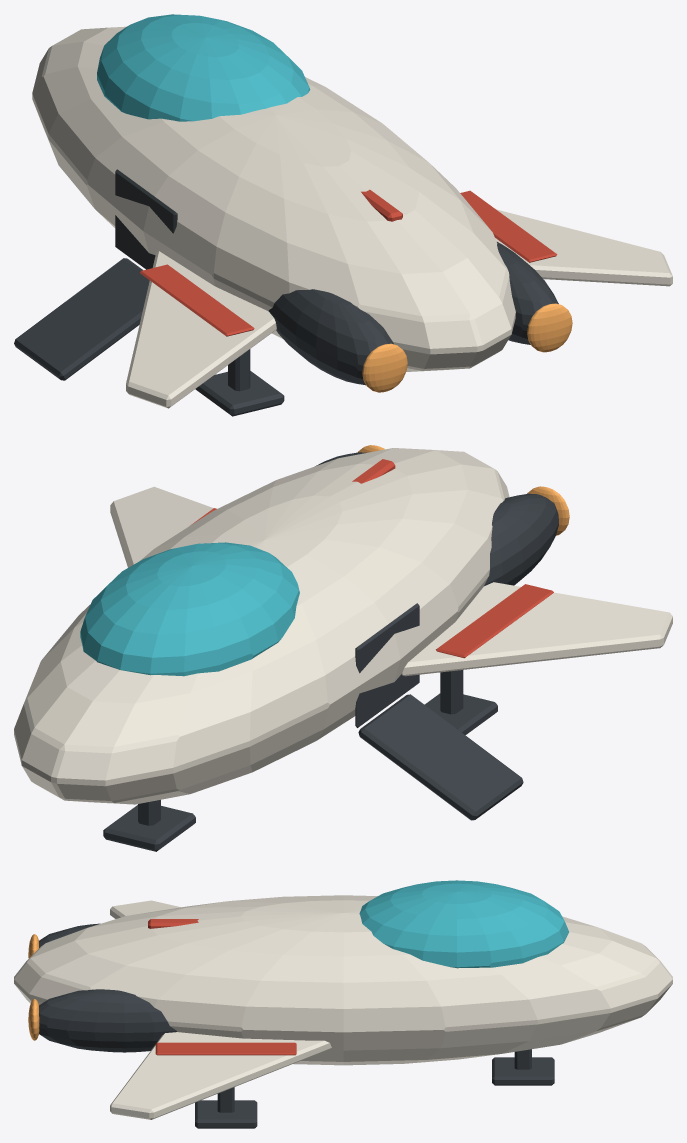
Rendered from ship.glb.
3 renders of one model, top to bottom at view 1: azimuth 30°, elevation 25°; view 2: azimuth 150°, elevation 25°; view 3: azimuth 270°, elevation 25°, orthographic. The views are drawn at different scales.
Parts seen in each view (by area): view 1: Hull, Cockpit, Wing-1, Ramp, Nacelle-1, Wing1, WingStripe-1, Nacelle1, Hatch, Foot0, WingStripe1, Exhaust-1 (+2 smaller); view 2: Hull, Cockpit, Wing-1, Ramp, Nacelle-1, Wing1, Hatch, WingStripe-1, Foot2, Foot0, Strut0, Exhaust-1; view 3: Hull, Cockpit, Wing1, Nacelle1, WingStripe1, Foot1, Foot2, Wing-1, Exhaust1, Strut1, Spine.
Boxes of the visible parts, left/top/right/bottom form: Hull: left=32, top=26, right=515, bottom=371; Cockpit: left=97, top=14, right=310, bottom=121; Wing-1: left=126, top=251, right=276, bottom=408; Ramp: left=14, top=258, right=149, bottom=380; Nacelle-1: left=268, top=289, right=393, bottom=385; Wing1: left=495, top=209, right=672, bottom=286; WingStripe-1: left=139, top=264, right=254, bottom=336; Nacelle1: left=497, top=242, right=558, bottom=344; Hatch: left=115, top=169, right=177, bottom=269; Foot0: left=195, top=371, right=284, bottom=416; WingStripe1: left=460, top=190, right=557, bottom=262; Exhaust-1: left=362, top=343, right=407, bottom=392; Hull: left=14, top=448, right=509, bottom=804; Cockpit: left=80, top=542, right=299, bottom=676; Wing-1: left=402, top=582, right=672, bottom=676; Ramp: left=358, top=694, right=523, bottom=820; Nacelle-1: left=484, top=493, right=558, bottom=586; Wing1: left=110, top=486, right=213, bottom=567; Hatch: left=355, top=603, right=419, bottom=727; WingStripe-1: left=436, top=584, right=553, bottom=658; Foot2: left=103, top=805, right=195, bottom=851; Foot0: left=424, top=693, right=497, bottom=734; Strut0: left=440, top=670, right=463, bottom=714; Exhaust-1: left=527, top=486, right=569, bottom=535; Hull: left=14, top=895, right=672, bottom=1065; Cockpit: left=359, top=880, right=568, bottom=968; Wing1: left=110, top=1032, right=331, bottom=1119; Nacelle1: left=39, top=989, right=176, bottom=1052; WingStripe1: left=155, top=1042, right=296, bottom=1055; Foot1: left=195, top=1100, right=257, bottom=1128; Foot2: left=492, top=1057, right=554, bottom=1085; Wing-1: left=110, top=900, right=180, bottom=918; Exhaust1: left=28, top=999, right=39, bottom=1040; Strut1: left=217, top=1087, right=234, bottom=1112; Spine: left=148, top=919, right=198, bottom=928.
Size of the model in its own units: 6.38 by 2.6 by 8.43.
